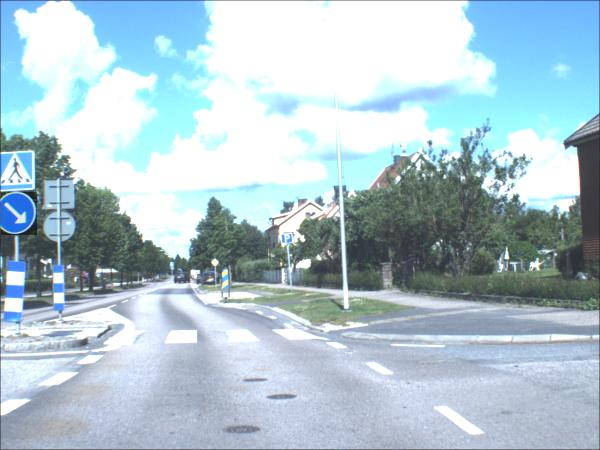PASS_RIGHT_SIDE: (2, 193, 39, 237), (172, 268, 176, 272)
PEDESTRIAN_CROSSING: (3, 154, 37, 192), (171, 264, 176, 268)
PRIORITY_ROAD: (212, 260, 221, 268)
